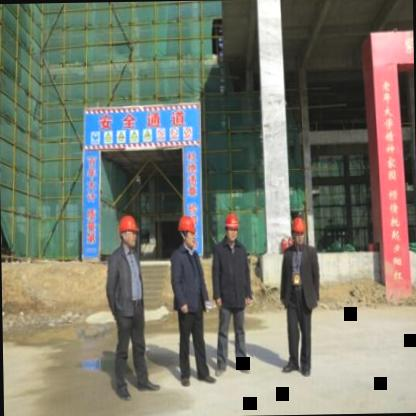helmet: (115, 211, 140, 252), (176, 212, 200, 250), (288, 214, 308, 248), (222, 206, 239, 244)
